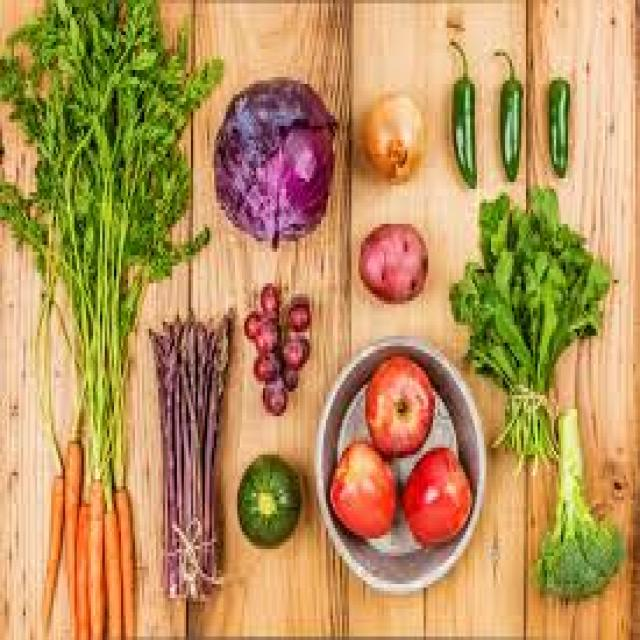organic waste: (0, 0, 209, 510), (447, 182, 612, 468), (147, 304, 230, 602), (212, 77, 337, 245), (533, 402, 619, 602), (363, 350, 433, 458), (398, 444, 470, 542), (328, 437, 393, 539), (233, 455, 298, 542), (356, 217, 426, 297), (363, 91, 424, 178), (445, 38, 477, 182), (37, 472, 63, 637), (491, 45, 521, 178), (63, 430, 81, 637), (98, 493, 121, 637), (111, 482, 132, 636), (88, 472, 105, 637), (545, 73, 570, 175), (74, 496, 91, 636), (258, 374, 286, 413), (254, 318, 277, 350), (279, 336, 307, 360), (251, 353, 277, 378), (284, 298, 307, 326), (242, 304, 261, 336), (258, 276, 272, 308), (282, 360, 296, 385)
